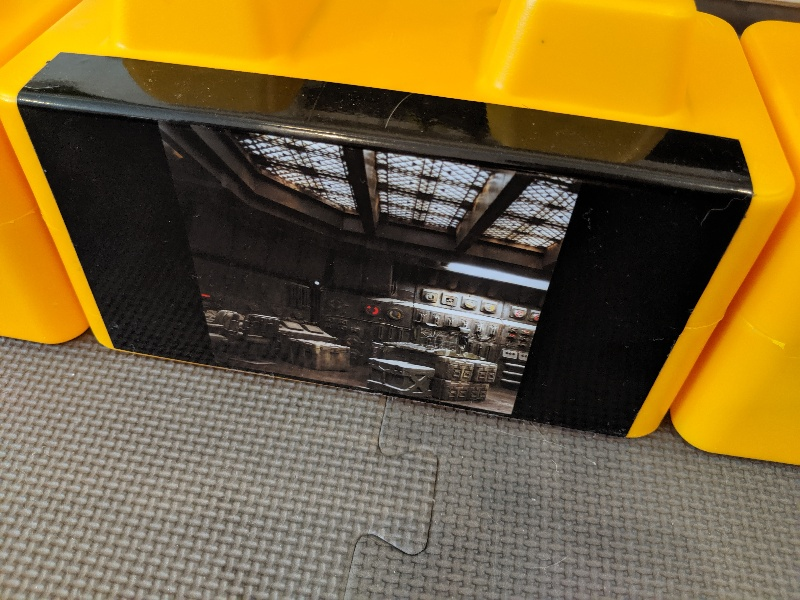Skystone: (9, 38, 762, 454)
